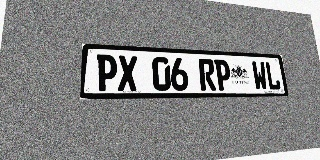0: (152, 57, 171, 91)
6: (170, 57, 189, 91)
L: (265, 62, 281, 90)
P: (96, 54, 117, 91), (214, 59, 232, 90)
R: (198, 59, 216, 91)
W: (251, 61, 268, 90)
X: (118, 55, 138, 91)
